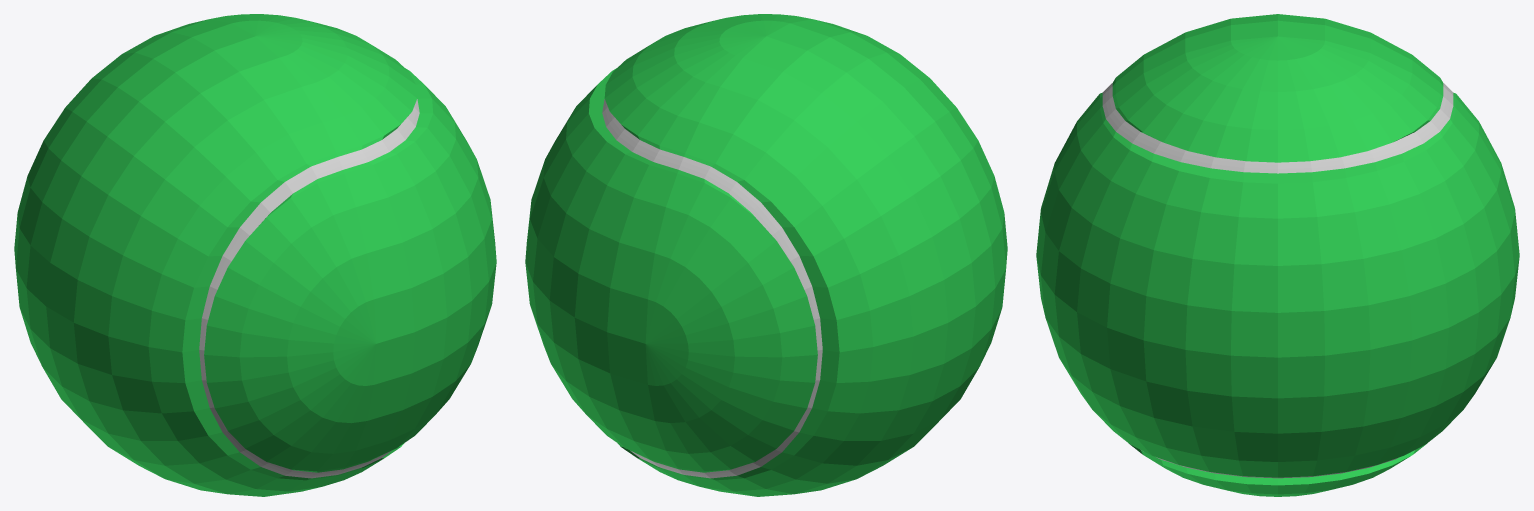
Rendered from bola.obj.
The picture shows the model from 3 angles, left to right: view 1: azimuth 30°, elevation 25°; view 2: azimuth 150°, elevation 25°; view 3: azimuth 270°, elevation 25°; orthographic projection.
Parts seen in each view (by area): view 1: Esfera_UV.001; view 2: Esfera_UV.001; view 3: Esfera_UV.001.
Part boxes in pixels (bbox=[...]): Esfera_UV.001: bbox=[14, 14, 496, 496]; Esfera_UV.001: bbox=[525, 14, 1007, 496]; Esfera_UV.001: bbox=[1036, 14, 1519, 496].
Bounding box in the file's own units: 2 × 2 × 2.
